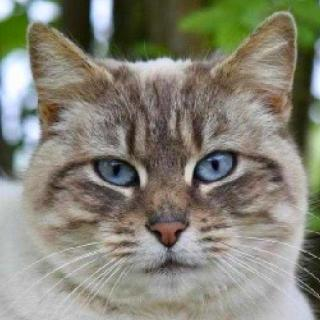cat: (22, 17, 308, 302)
nose: (138, 208, 202, 254)
